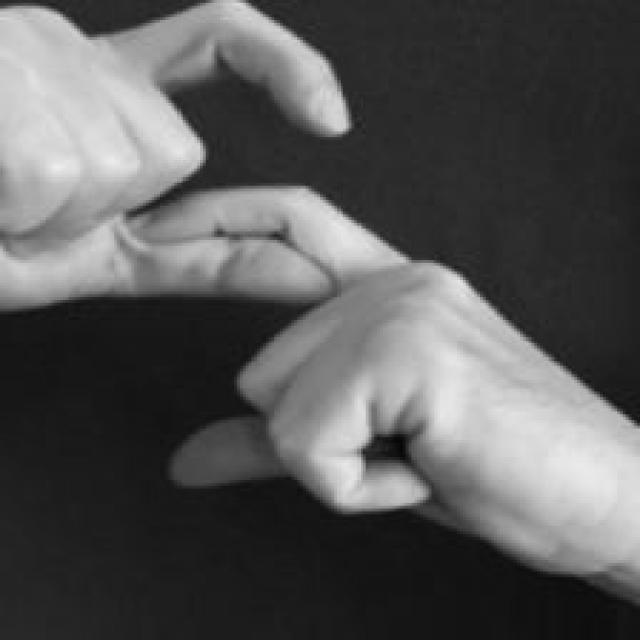S: (1, 0, 640, 640)
